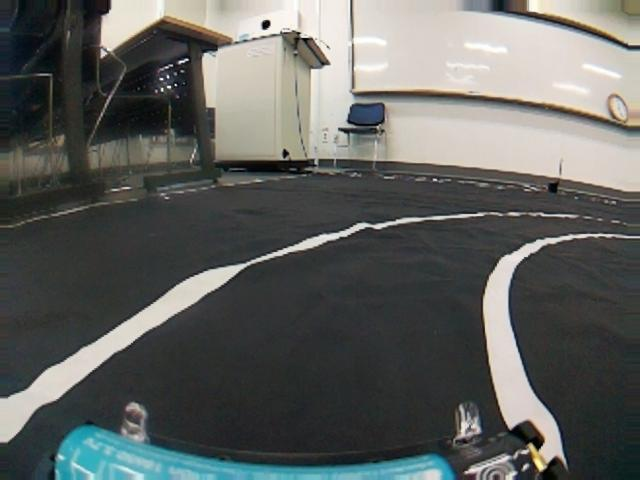right: (7, 208, 636, 477)
